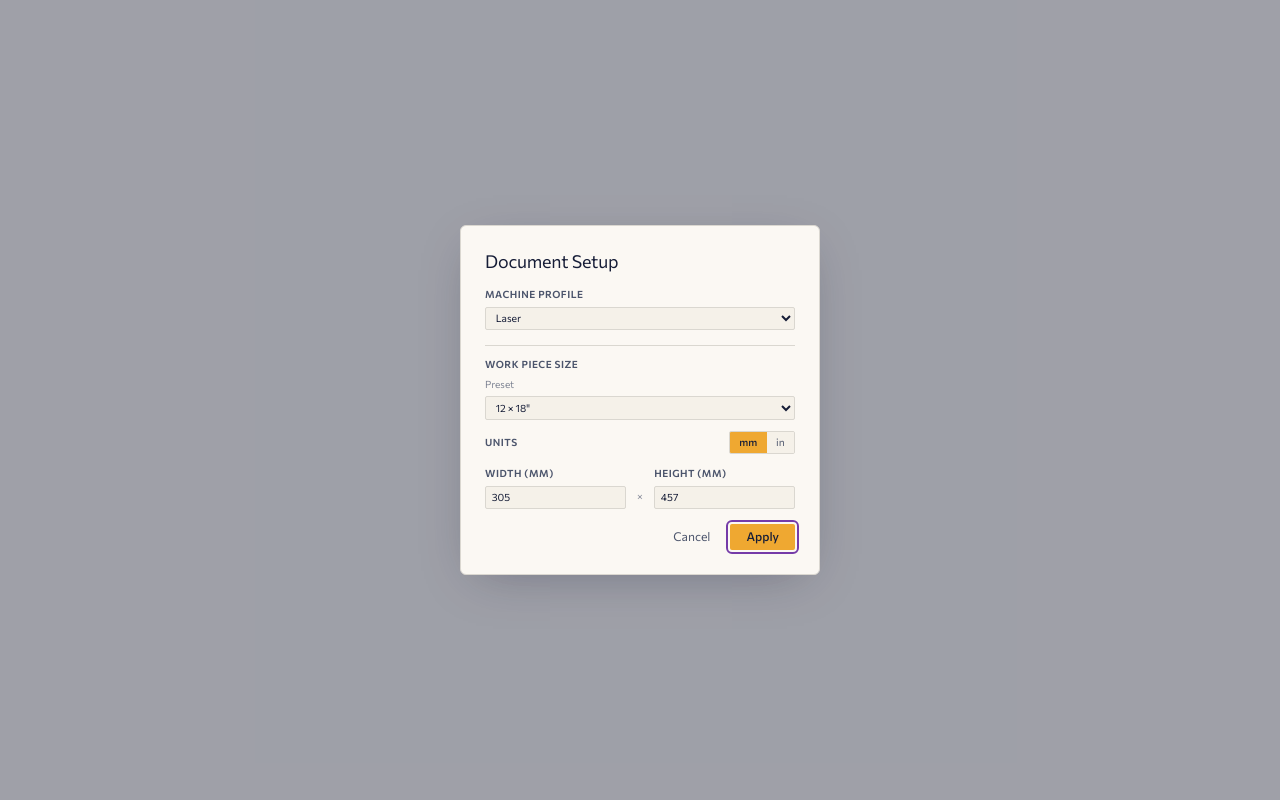
DocumentSetupDialog — work piece size is px-canonical (#16 follow-up) › editing Width/Height after a preset pick switches the preset selector to Custom
Expected: the dropdown named "work piece preset" shows "12 × 18\"", [485,396,795,420]
Replace the text in the number field labelled "Width (mm)" with "5": (555,498) [485,486,626,509]
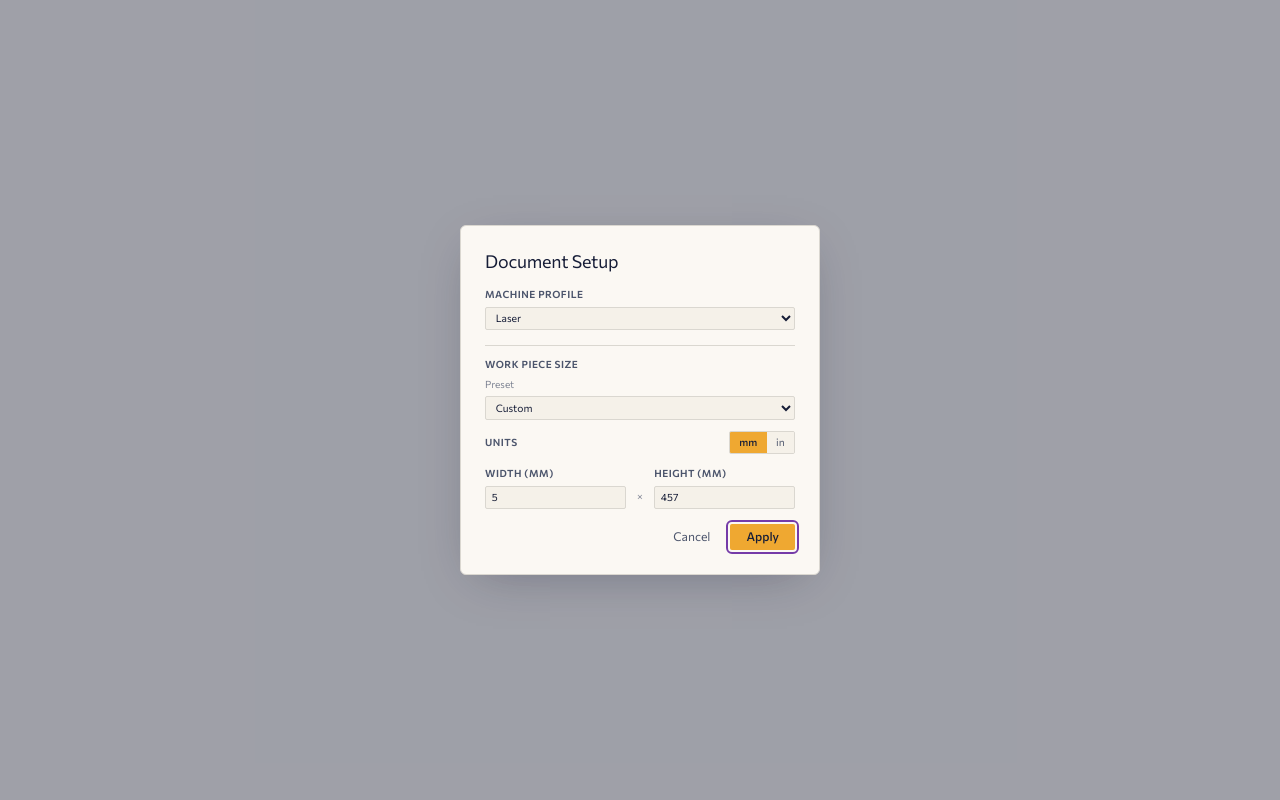
Expected: the dropdown named "work piece preset" shows "Custom", [485,396,795,420]
